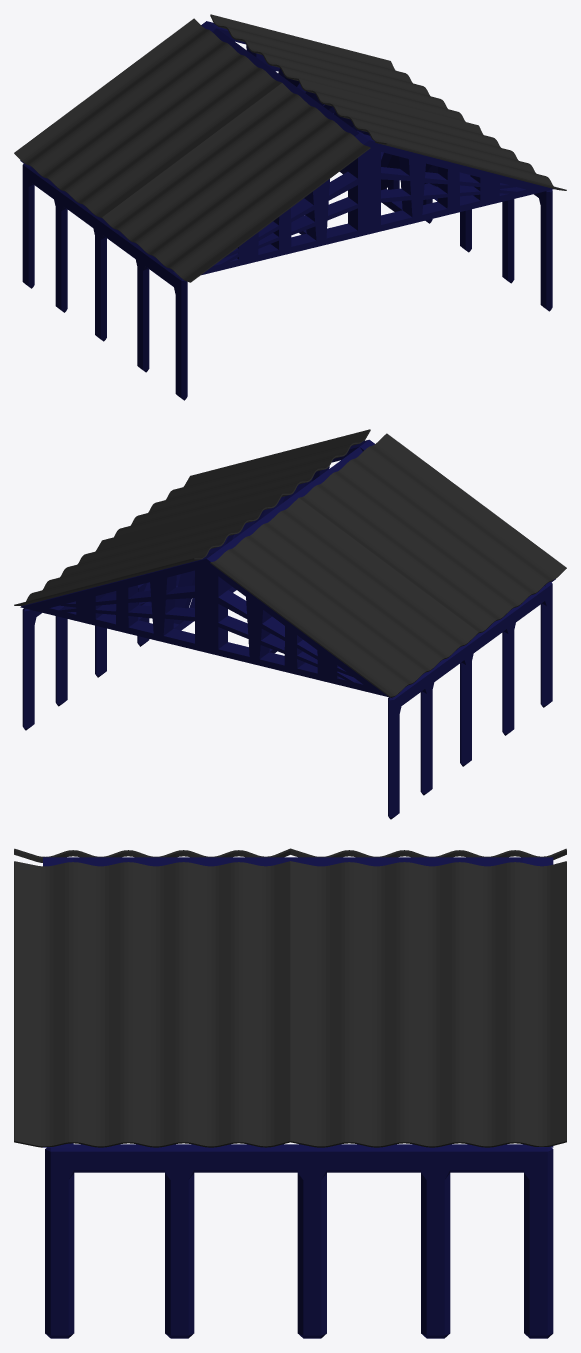
Rendered from TaxiRank.fbx.
3 views of the same model, one above another, from view 1: azimuth 30°, elevation 25°; view 2: azimuth 150°, elevation 25°; view 3: azimuth 270°, elevation 25° (orthographic). The views are drawn at different scales.
Visible parts, largest first — view 1: Plane.001, Plane, Cube; view 2: Plane.001, Plane, Cube; view 3: Plane.001, Cube, Plane.
Boxes of the visible parts, bbox=[...] form: Plane.001: bbox=[14, 14, 566, 282]; Plane: bbox=[20, 21, 553, 279]; Cube: bbox=[22, 163, 552, 400]; Plane.001: bbox=[14, 429, 566, 697]; Plane: bbox=[20, 439, 555, 698]; Cube: bbox=[22, 582, 552, 819]; Plane.001: bbox=[14, 848, 566, 1147]; Cube: bbox=[45, 1144, 553, 1338]; Plane: bbox=[43, 857, 553, 1147].
Bounding box in the file's own units: 4648 × 2586 × 3767.
